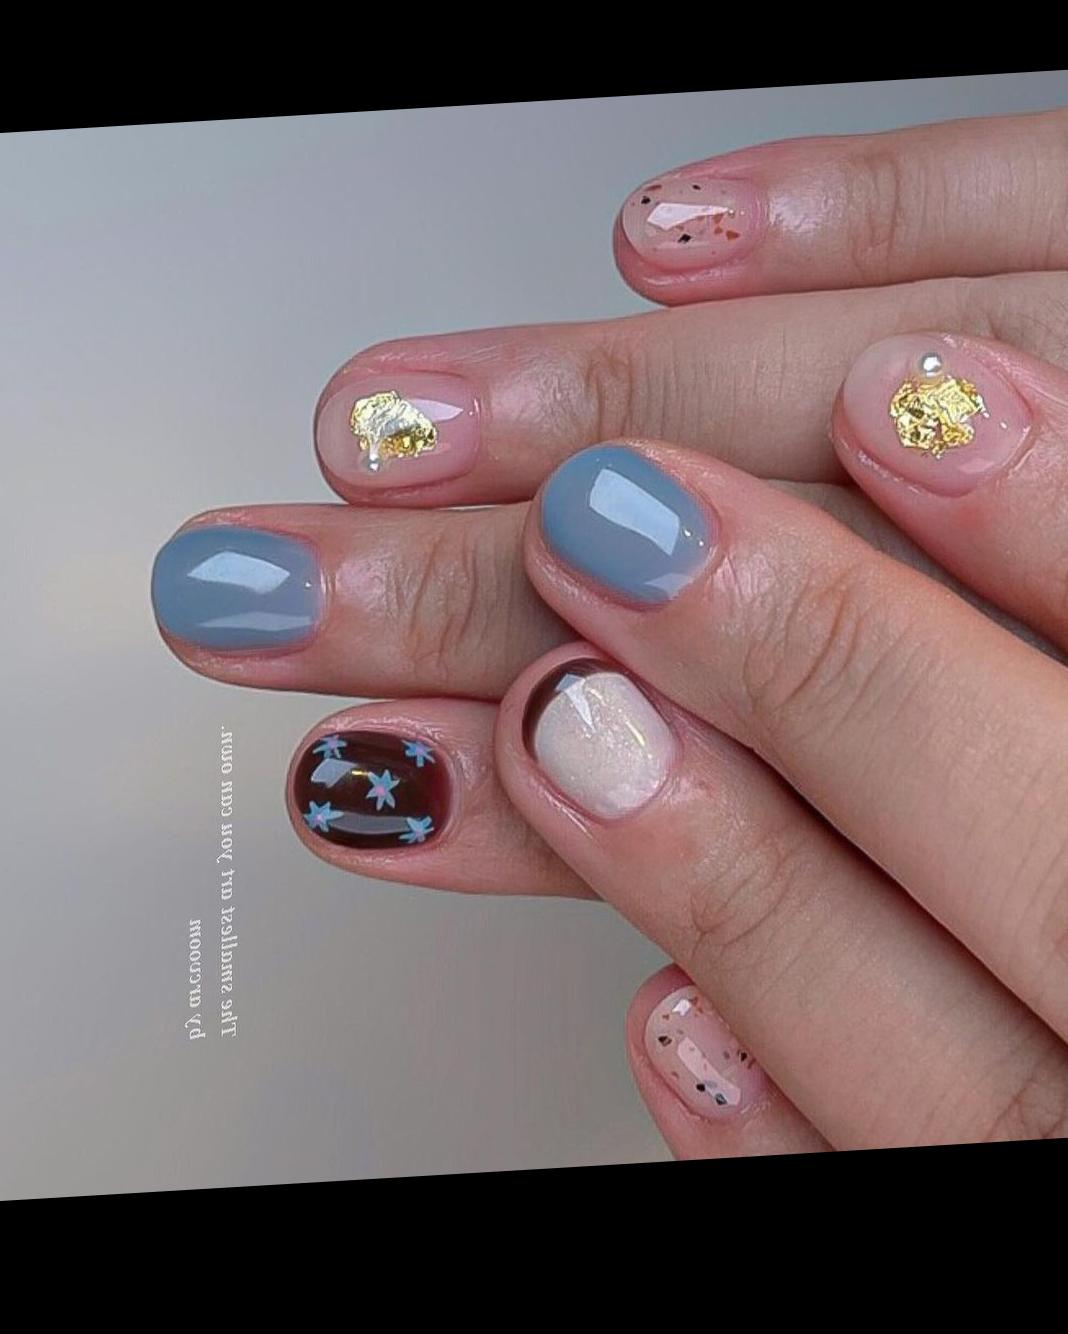nail: (836, 325, 1037, 507), (536, 435, 723, 616), (522, 656, 681, 830), (151, 518, 328, 665), (316, 361, 487, 504), (294, 720, 462, 860), (641, 981, 769, 1128), (619, 170, 770, 282)
